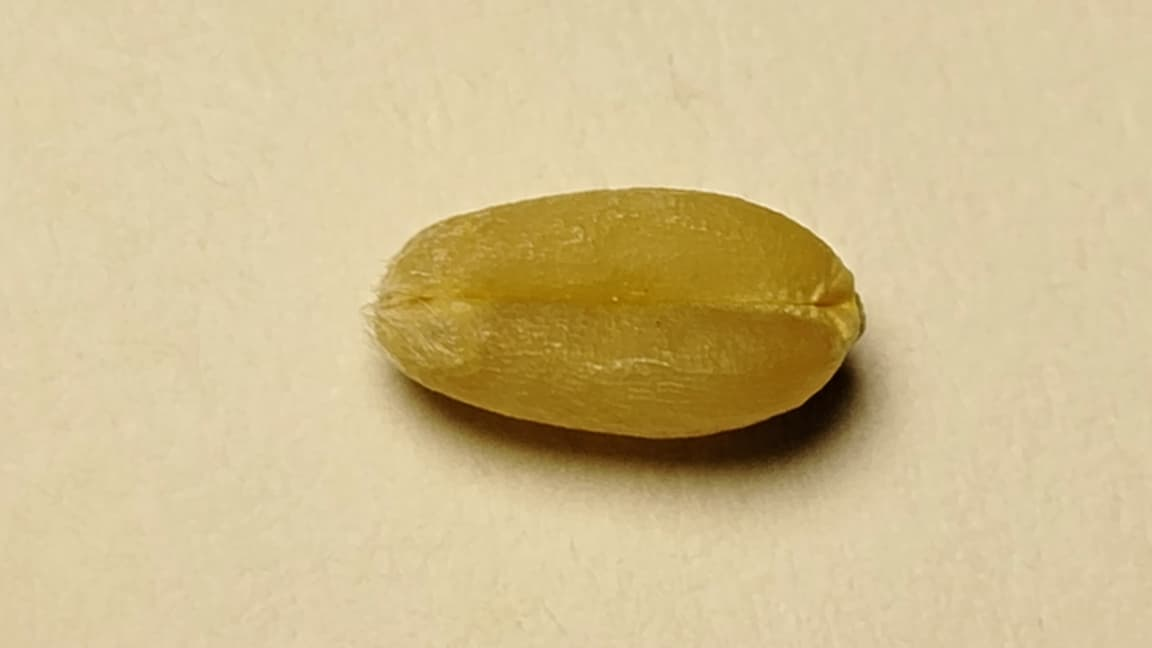healthy: (366, 187, 863, 437)
